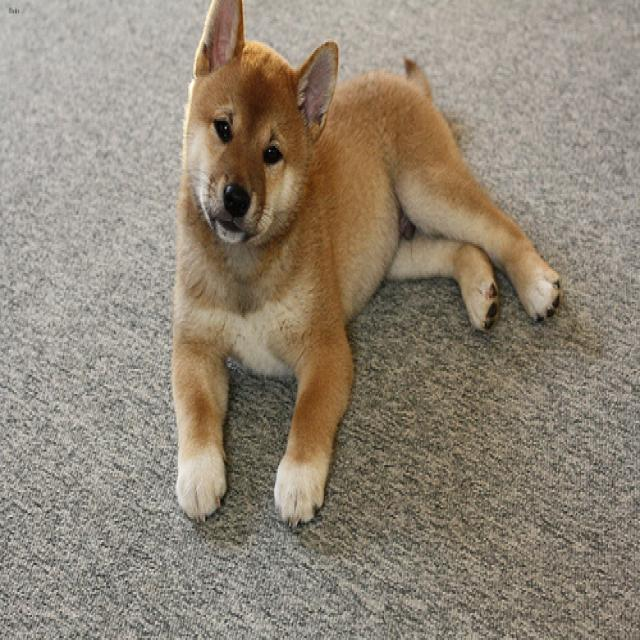dog-shiba_inu: (161, 2, 568, 538)
